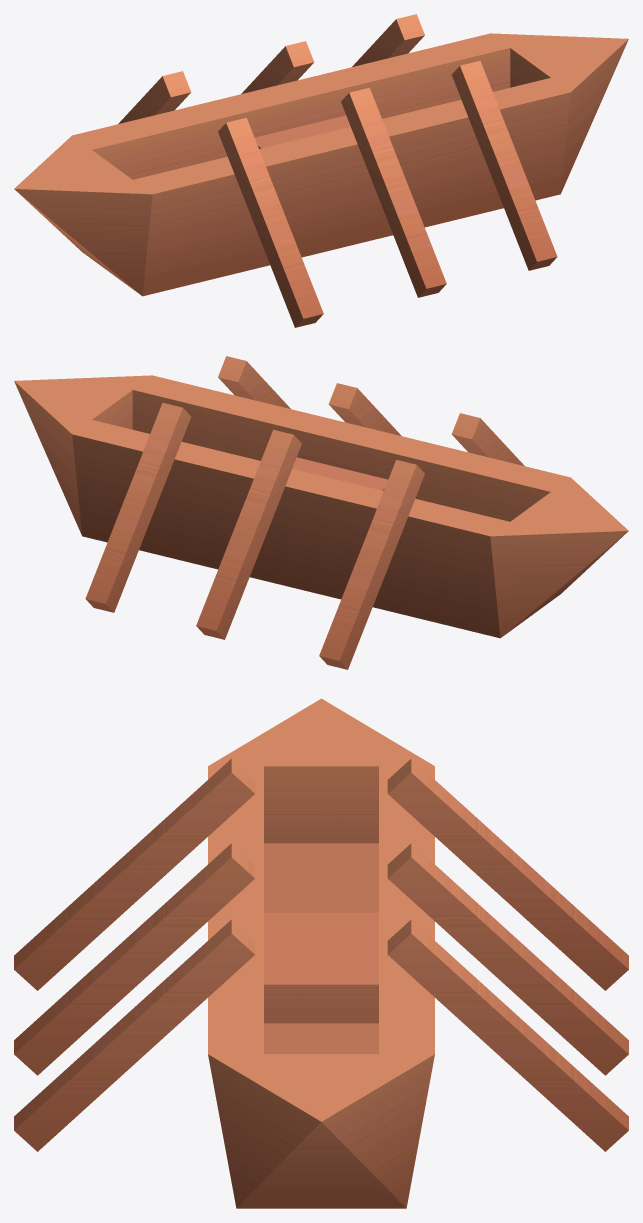
File: unit-ship.glb
The picture shows the model from 3 angles, top to bottom: view 1: azimuth 30°, elevation 25°; view 2: azimuth 150°, elevation 25°; view 3: azimuth 270°, elevation 25°; orthographic projection. The views are drawn at different scales.
Visible parts, largest first — view 1: unit-ship; view 2: unit-ship; view 3: unit-ship.
Boxes of the visible parts, x1,y1,x2,y2 form: unit-ship: (14, 14, 628, 327); unit-ship: (14, 356, 628, 669); unit-ship: (14, 698, 628, 1208).
Bounding box in the file's own units: 0.645 × 0.1553 × 0.3959.
1 material, 1 textured.
